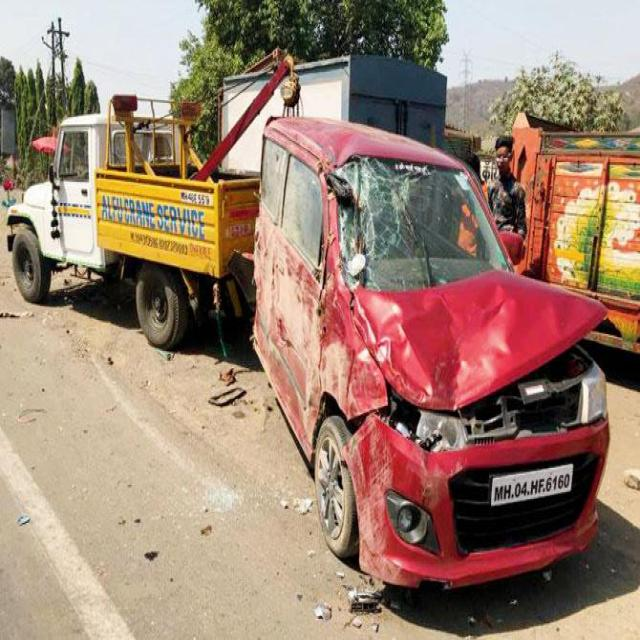accident: (254, 118, 609, 587)
truck: (8, 61, 288, 348)
